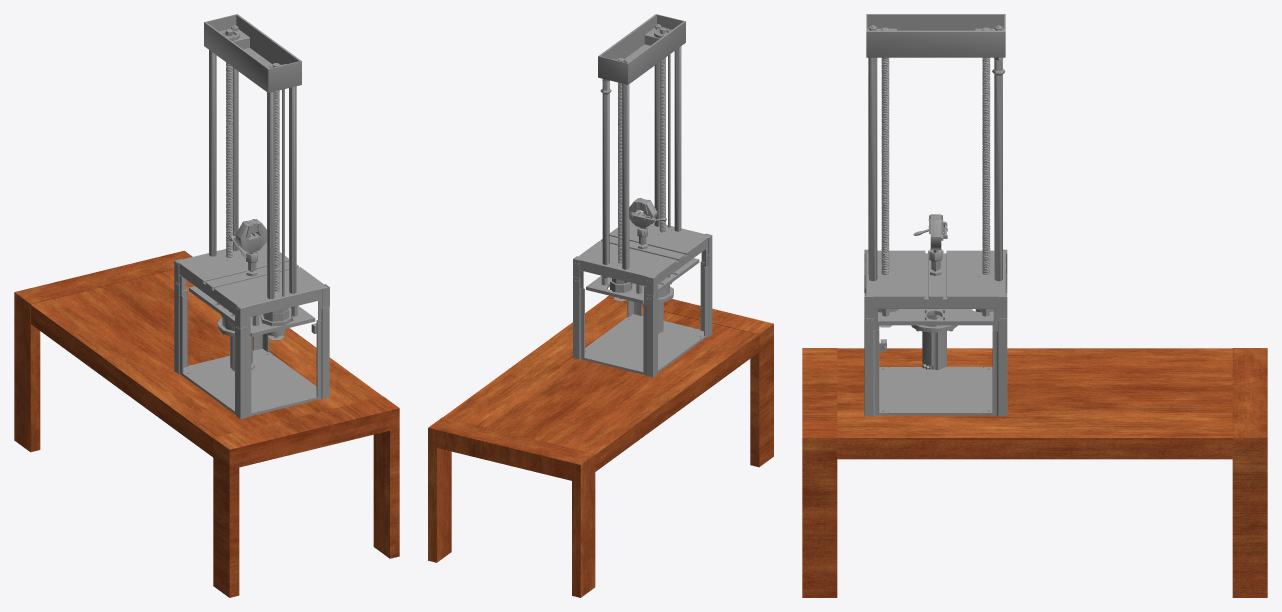
3 renders of one model, left to right at view 1: azimuth 30°, elevation 25°; view 2: azimuth 150°, elevation 25°; view 3: azimuth 270°, elevation 25°, orthographic. The views are drawn at different scales.
Visible parts, largest first — view 1: Box001, main; view 2: Box001, main; view 3: Box001, main.
Boxes of the visible parts, x1=… form: Box001: x1=14, y1=250, x2=399, y2=597; main: x1=174, y1=14, x2=329, y2=419; Box001: x1=428, y1=295, x2=773, y2=597; main: x1=573, y1=14, x2=712, y2=377; Box001: x1=802, y1=348, x2=1267, y2=597; main: x1=864, y1=14, x2=1007, y2=416.
Size of the model in its own units: 1.37 by 3.77 by 3.
Materials: 2 (1 with a texture image).
